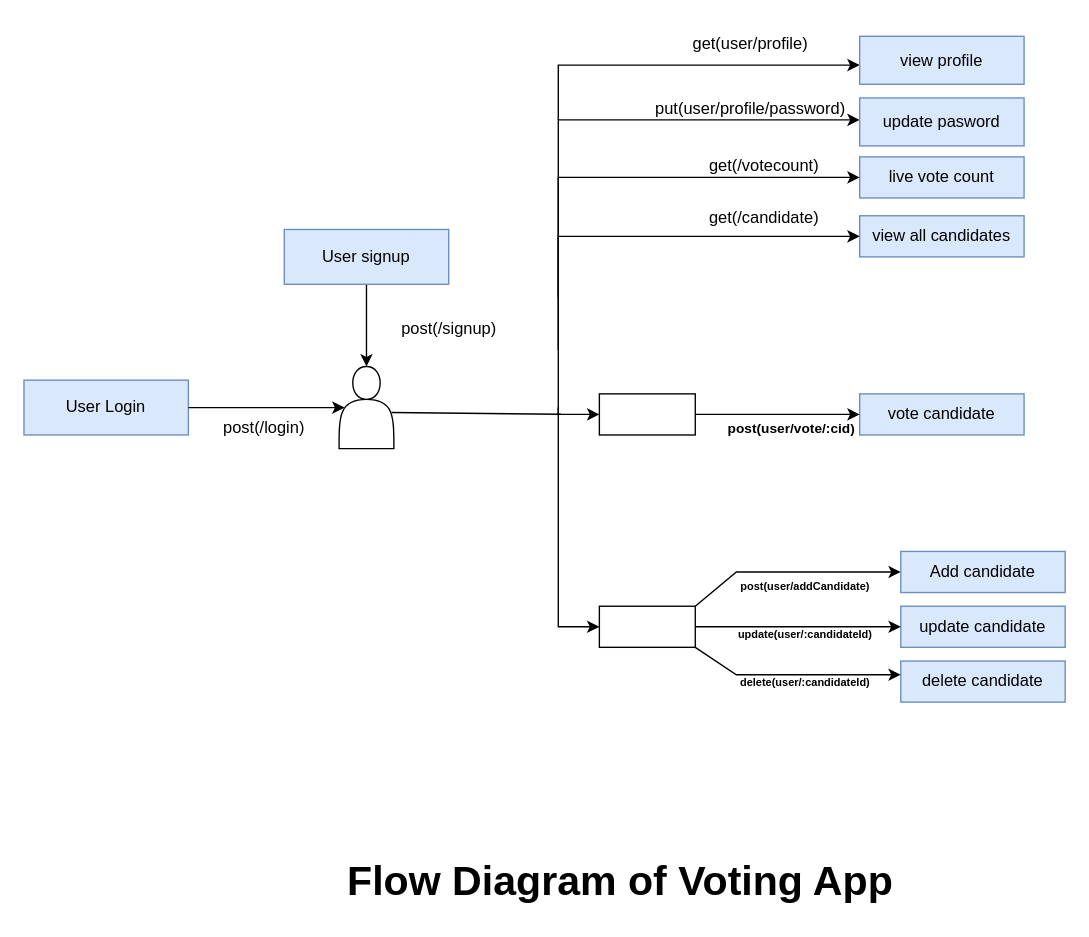
Some shapes in this 1089 by 937 pixel diagram are drawn without their labels. Here are the shapes that lost their labels. From the top down, the centre of each, then its label:
point (646, 414): role="voter"
point (646, 626): role="admin"
